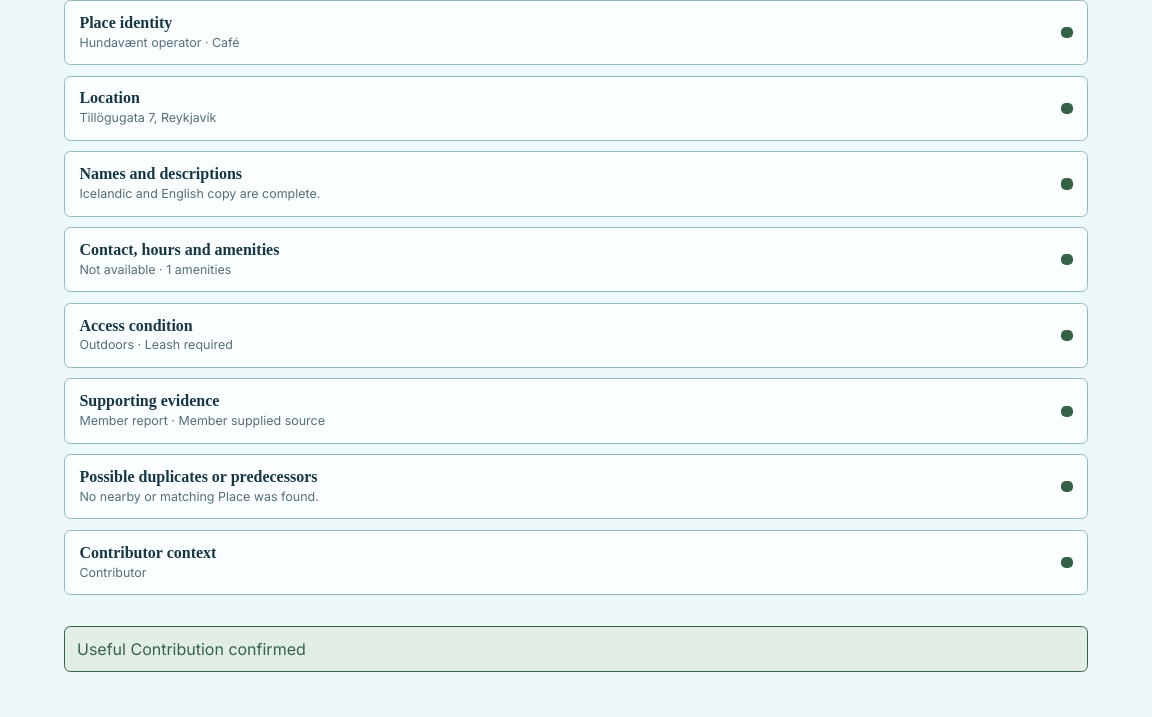
Test: Moderator Contributor detail on the Suggestion review page › shows status, evidence history, and moderator actions gated by an active conduct flag
(page scrolled)
Check: the element with id "suggestion-contributor" is shown, box [64, 530, 1088, 595]
Click the heading "Contributor context Contributor".
click(148, 552)  # box [79, 544, 1073, 580]
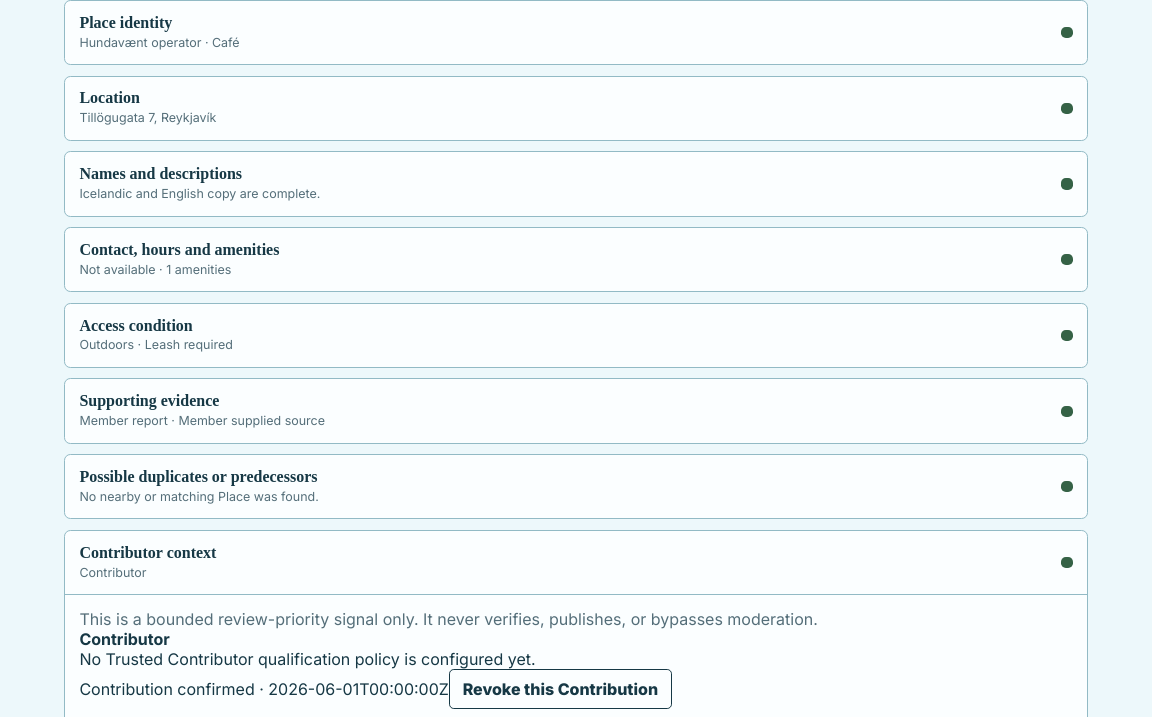
Check: the text "Contributor" is shown 2 times, box [79, 564, 146, 580]; [79, 629, 170, 649]
Check: the button "Revoke this Contribution" is shown, box [449, 669, 672, 709]
Check: the text "This is a bounded review-priority signal only. It never verifies, publishes, or bypasses moderation." is shown, box [79, 609, 818, 629]
